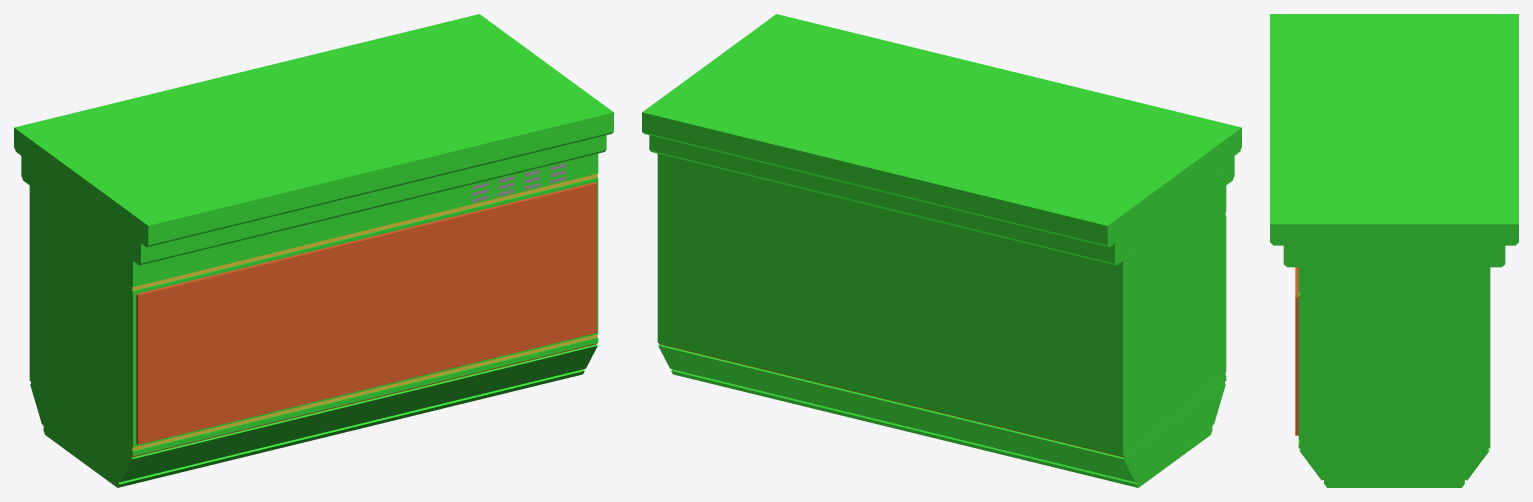
The model's file is Bar_Ceiling_01_Straight_D.fbx.
3 renders of one model, left to right at view 1: azimuth 30°, elevation 25°; view 2: azimuth 150°, elevation 25°; view 3: azimuth 270°, elevation 25°, orthographic. The views are drawn at different scales.
Visible parts, largest first — view 1: Bar_Ceiling_01_Straight_D; view 2: Bar_Ceiling_01_Straight_D; view 3: Bar_Ceiling_01_Straight_D.
Part boxes in pixels (x1=…): Bar_Ceiling_01_Straight_D: x1=14, y1=14, x2=613, y2=487; Bar_Ceiling_01_Straight_D: x1=642, y1=14, x2=1241, y2=487; Bar_Ceiling_01_Straight_D: x1=1270, y1=14, x2=1518, y2=487.
Bounding box in the file's own units: 183 × 107 × 91.44.
